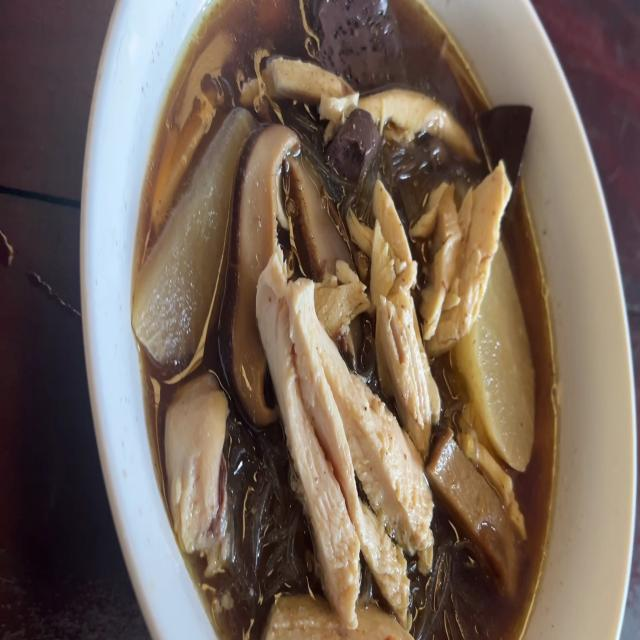noodle: (320, 0, 406, 77), (480, 105, 537, 188), (332, 112, 383, 196)
